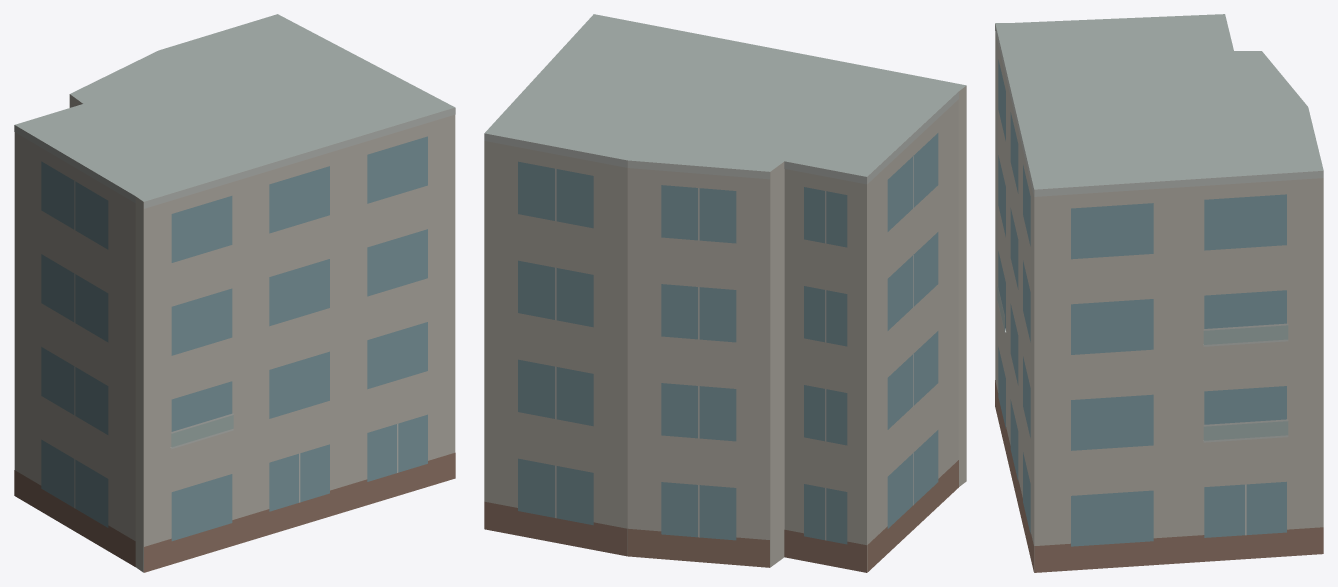
Rendered from survey-upis-32621892.glb.
3 views of the same model, side by side, from view 1: azimuth 30°, elevation 25°; view 2: azimuth 150°, elevation 25°; view 3: azimuth 270°, elevation 25° (orthographic). The views are drawn at different scales.
Visible parts, largest first — view 1: survey-upis-32621892.tmp; view 2: survey-upis-32621892.tmp; view 3: survey-upis-32621892.tmp.
Part boxes in pixels (box(x1,y1,x2,y2)): survey-upis-32621892.tmp: box(14, 14, 455, 572); survey-upis-32621892.tmp: box(484, 14, 966, 572); survey-upis-32621892.tmp: box(995, 14, 1323, 572).
Bounding box in the file's own units: 12.59 × 12.8 × 9.96.
